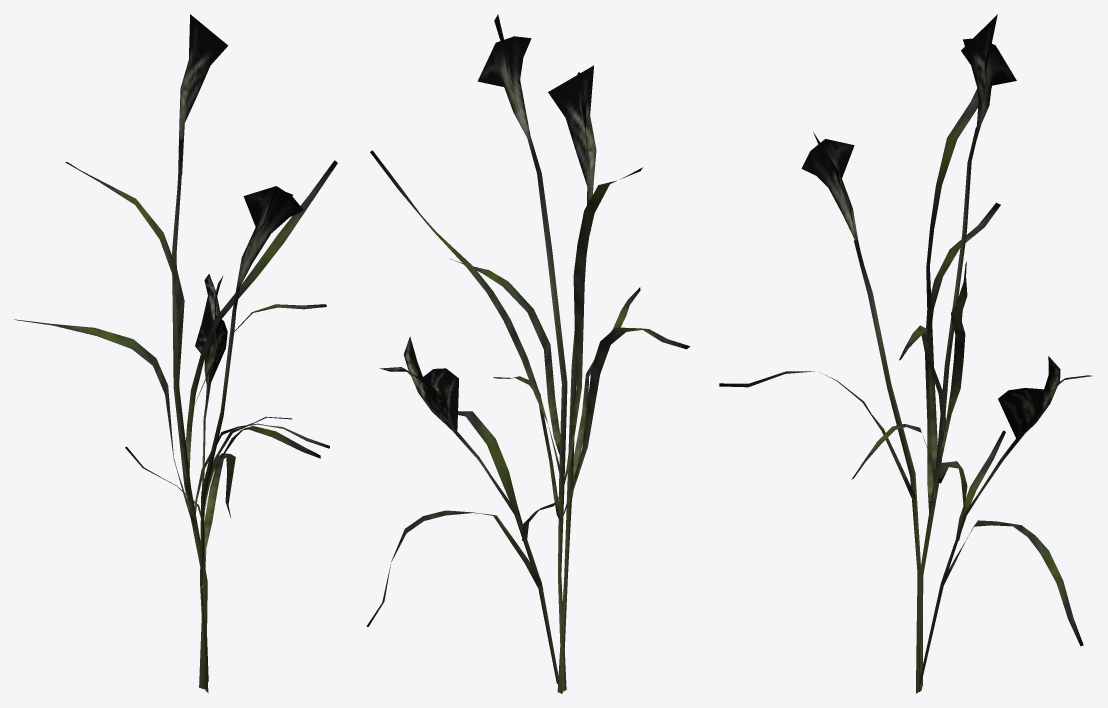
Rendered from grass.glb.
3 views of the same model, side by side, from view 1: azimuth 30°, elevation 25°; view 2: azimuth 150°, elevation 25°; view 3: azimuth 270°, elevation 25° (orthographic). The views are drawn at different scales.
Parts seen in each view (by area): view 1: grass_medium_01_tall_a_LOD0; view 2: grass_medium_01_tall_a_LOD0; view 3: grass_medium_01_tall_a_LOD0.
Part boxes in pixels (<box>): grass_medium_01_tall_a_LOD0: <box>14,14,337,692</box>; grass_medium_01_tall_a_LOD0: <box>366,14,689,693</box>; grass_medium_01_tall_a_LOD0: <box>719,14,1091,693</box>.
Bounding box in the file's own units: 0.1609 × 0.3225 × 0.1585.
Materials: 1 (1 with a texture image).
